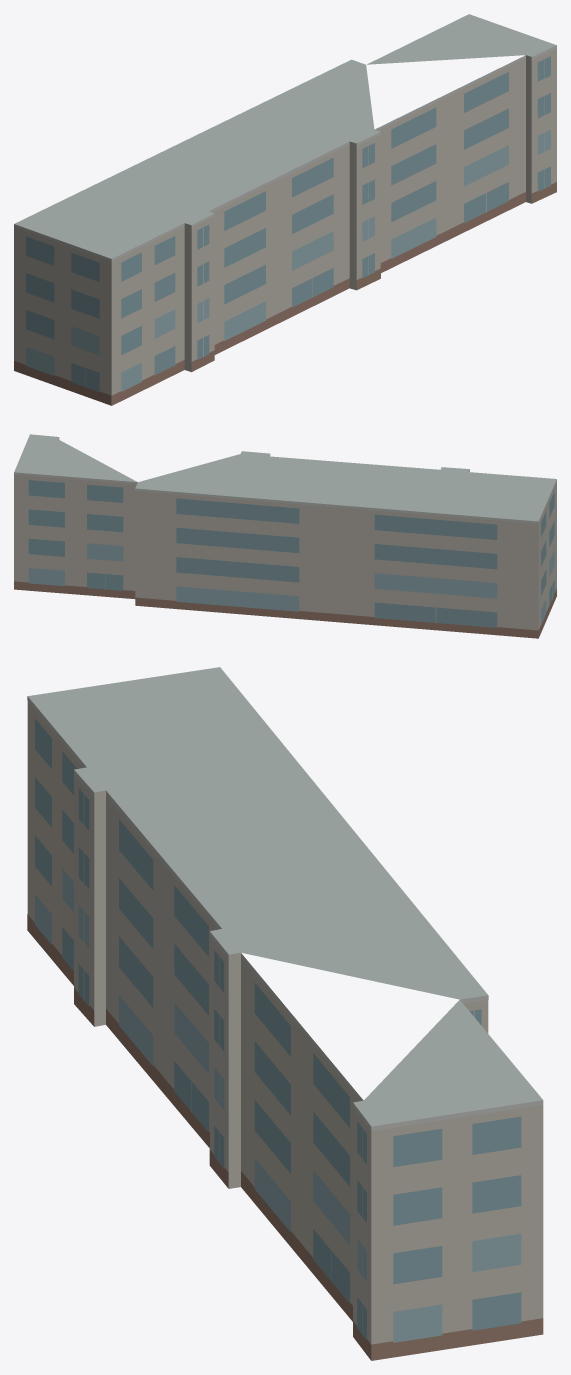
File: survey-upis-33018605.glb
3 views of the same model, one above another, from view 1: azimuth 30°, elevation 25°; view 2: azimuth 150°, elevation 25°; view 3: azimuth 270°, elevation 25° (orthographic). The views are drawn at different scales.
Parts seen in each view (by area): view 1: survey-upis-33018605.tmp; view 2: survey-upis-33018605.tmp; view 3: survey-upis-33018605.tmp.
Part boxes in pixels (x1,y1,x2,y2): survey-upis-33018605.tmp: [14, 14, 556, 405]; survey-upis-33018605.tmp: [14, 434, 556, 638]; survey-upis-33018605.tmp: [27, 667, 543, 1360].
Size of the model in its own units: 51.32 by 12.2 by 24.35.
